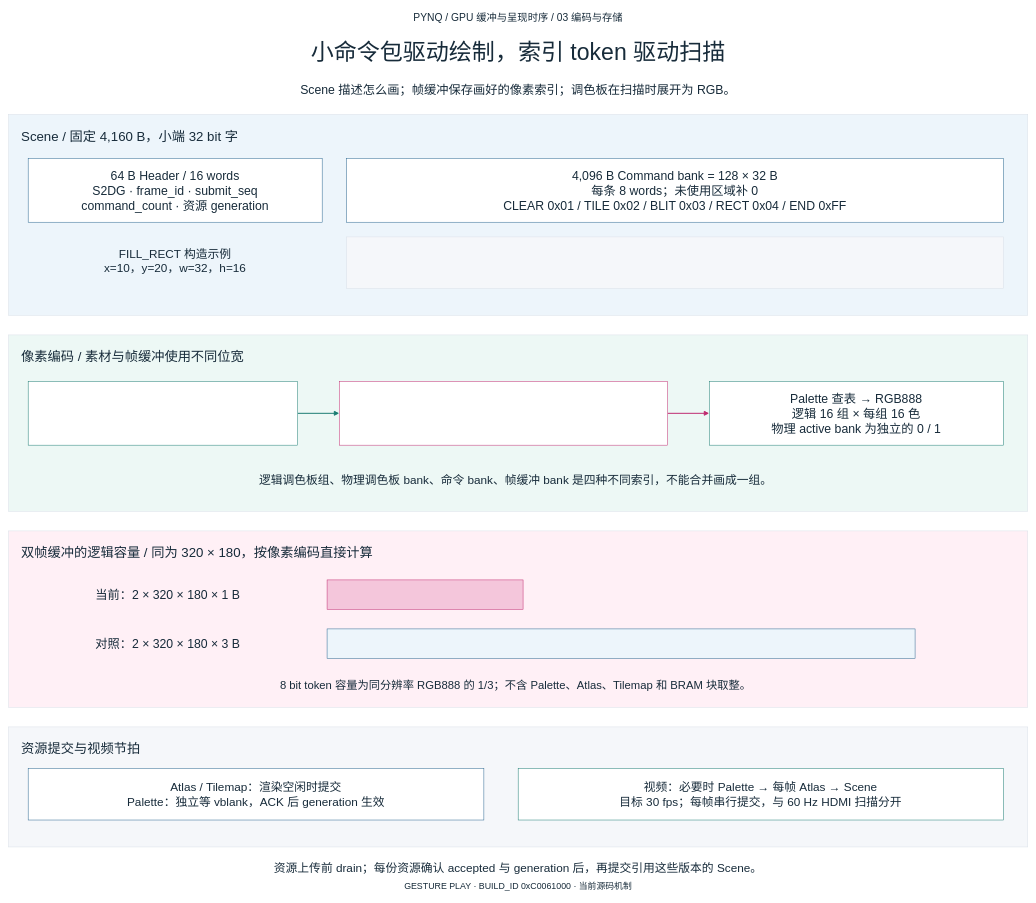
Image size: 1036x903. Some labels were removed from this diagram. Here are the shapes that lost their labels. From the top down, the centre of each, then its label:
At [674,262]: "word0=0x00000004 word1=0x000000F7 word2=0x0014000A word3=0x00100020 word4–7=0".
At [163,413]: "素材 INDEX4 / 每像素 4 bit 像素 [1,2,3,4] → 字节 [21,43]hex BLIT 遇到 index 0 跳过写入".
At [503,413]: "帧缓冲 token / 每像素 8 bit [7:4] 逻辑调色板组 | [3:0] 色号 0xF7 → 第 15 组，第 7 色".
At [425,594]: "112.5 KiB".
At [621,643]: "337.5 KiB / RGB888".
